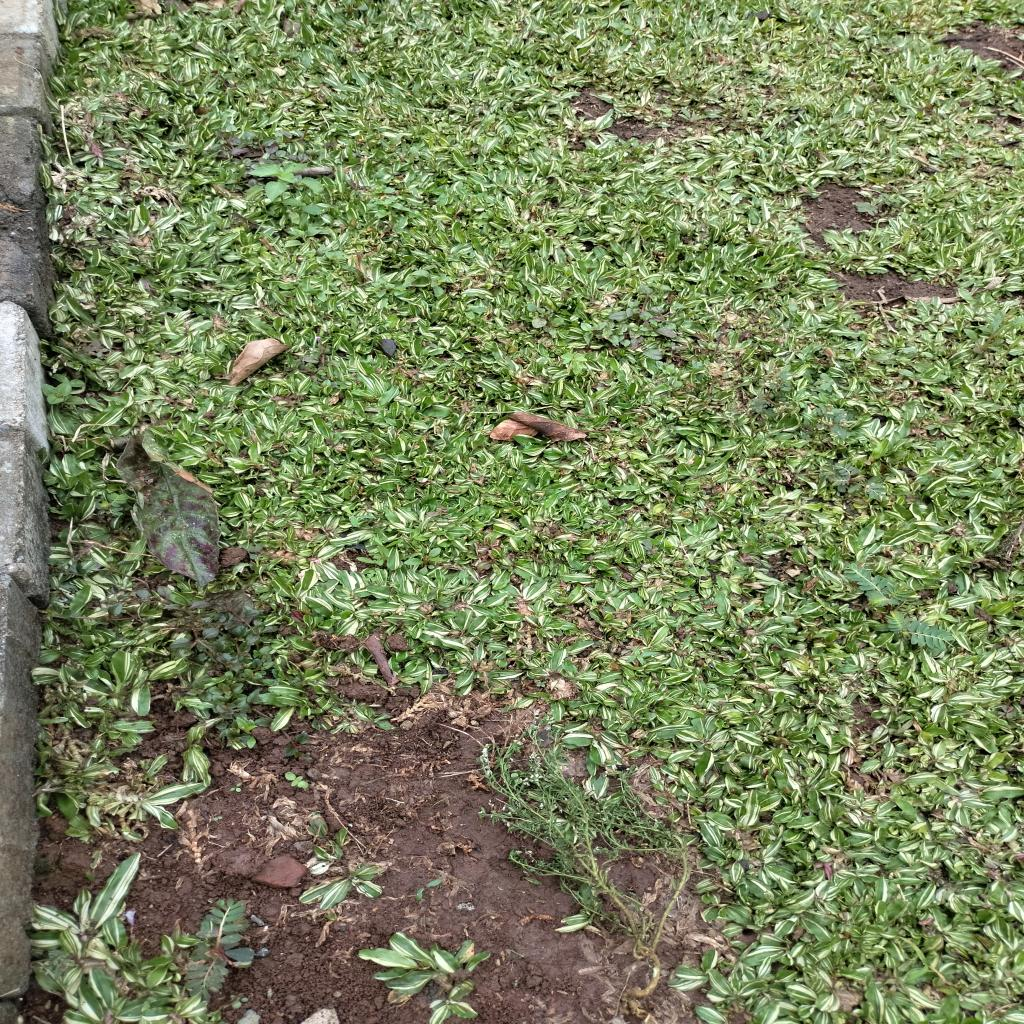bayi: (282, 768, 310, 792), (227, 779, 245, 795)
buah daun: (178, 897, 254, 1004), (845, 558, 918, 612), (883, 610, 959, 653), (830, 459, 890, 500), (852, 190, 901, 220)
gingseng jawa: (961, 310, 1024, 356), (403, 546, 446, 576), (234, 715, 260, 750)
rambat atas: (896, 932, 953, 986), (348, 514, 378, 528)
tunggang besar: (248, 157, 326, 204)
tunggang tengah: (743, 365, 793, 415), (812, 402, 854, 441)
ungu tunggang: (180, 580, 274, 742), (580, 281, 684, 362), (215, 122, 316, 163), (296, 335, 340, 388), (36, 378, 92, 412), (524, 302, 568, 333), (363, 275, 412, 296)
